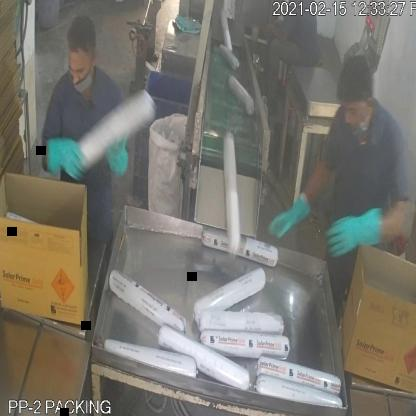glove: (322, 202, 396, 267), (264, 174, 314, 250), (47, 130, 85, 180)
no_glove: (257, 18, 289, 50)
